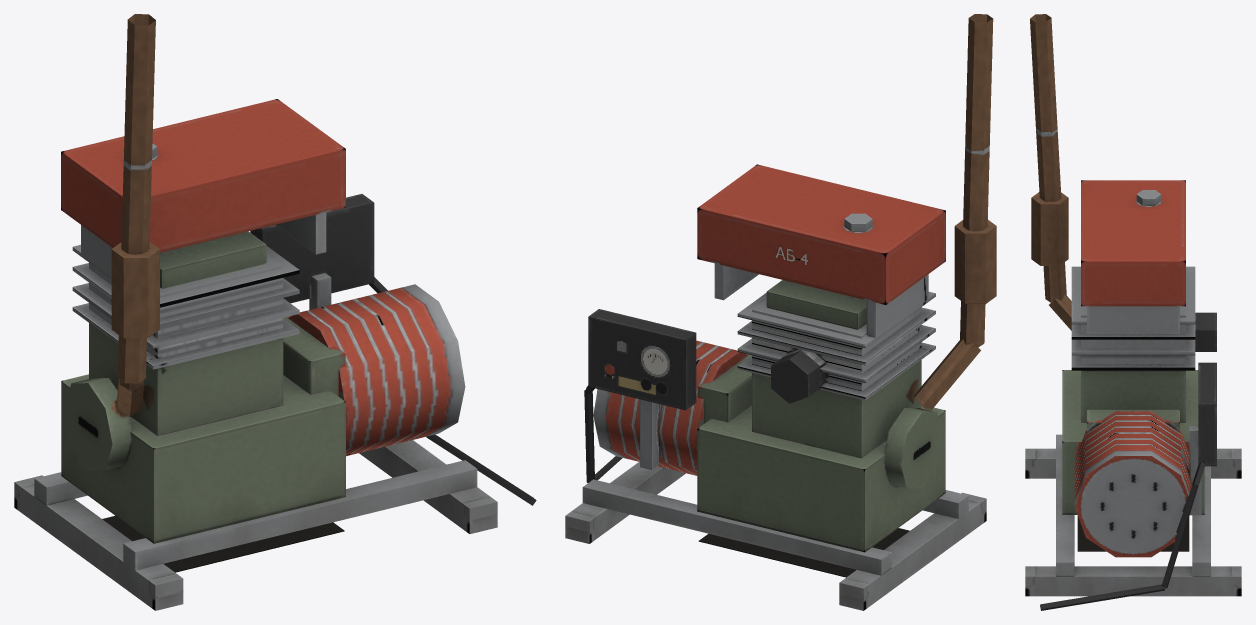
File: generator_ab4.glb
3 renders of one model, left to right at view 1: azimuth 30°, elevation 25°; view 2: azimuth 150°, elevation 25°; view 3: azimuth 270°, elevation 25°, orthographic. The views are drawn at different scales.
Visible parts, largest first — view 1: generator_ab4_lo; view 2: generator_ab4_lo; view 3: generator_ab4_lo.
Part boxes in pixels (x1,y1,x2,y2): generator_ab4_lo: (14,14,536,610); generator_ab4_lo: (565,14,996,610); generator_ab4_lo: (1025,14,1241,610).
Bounding box in the file's own units: 1.18 × 1.6 × 0.7.
1 material, 1 textured.
